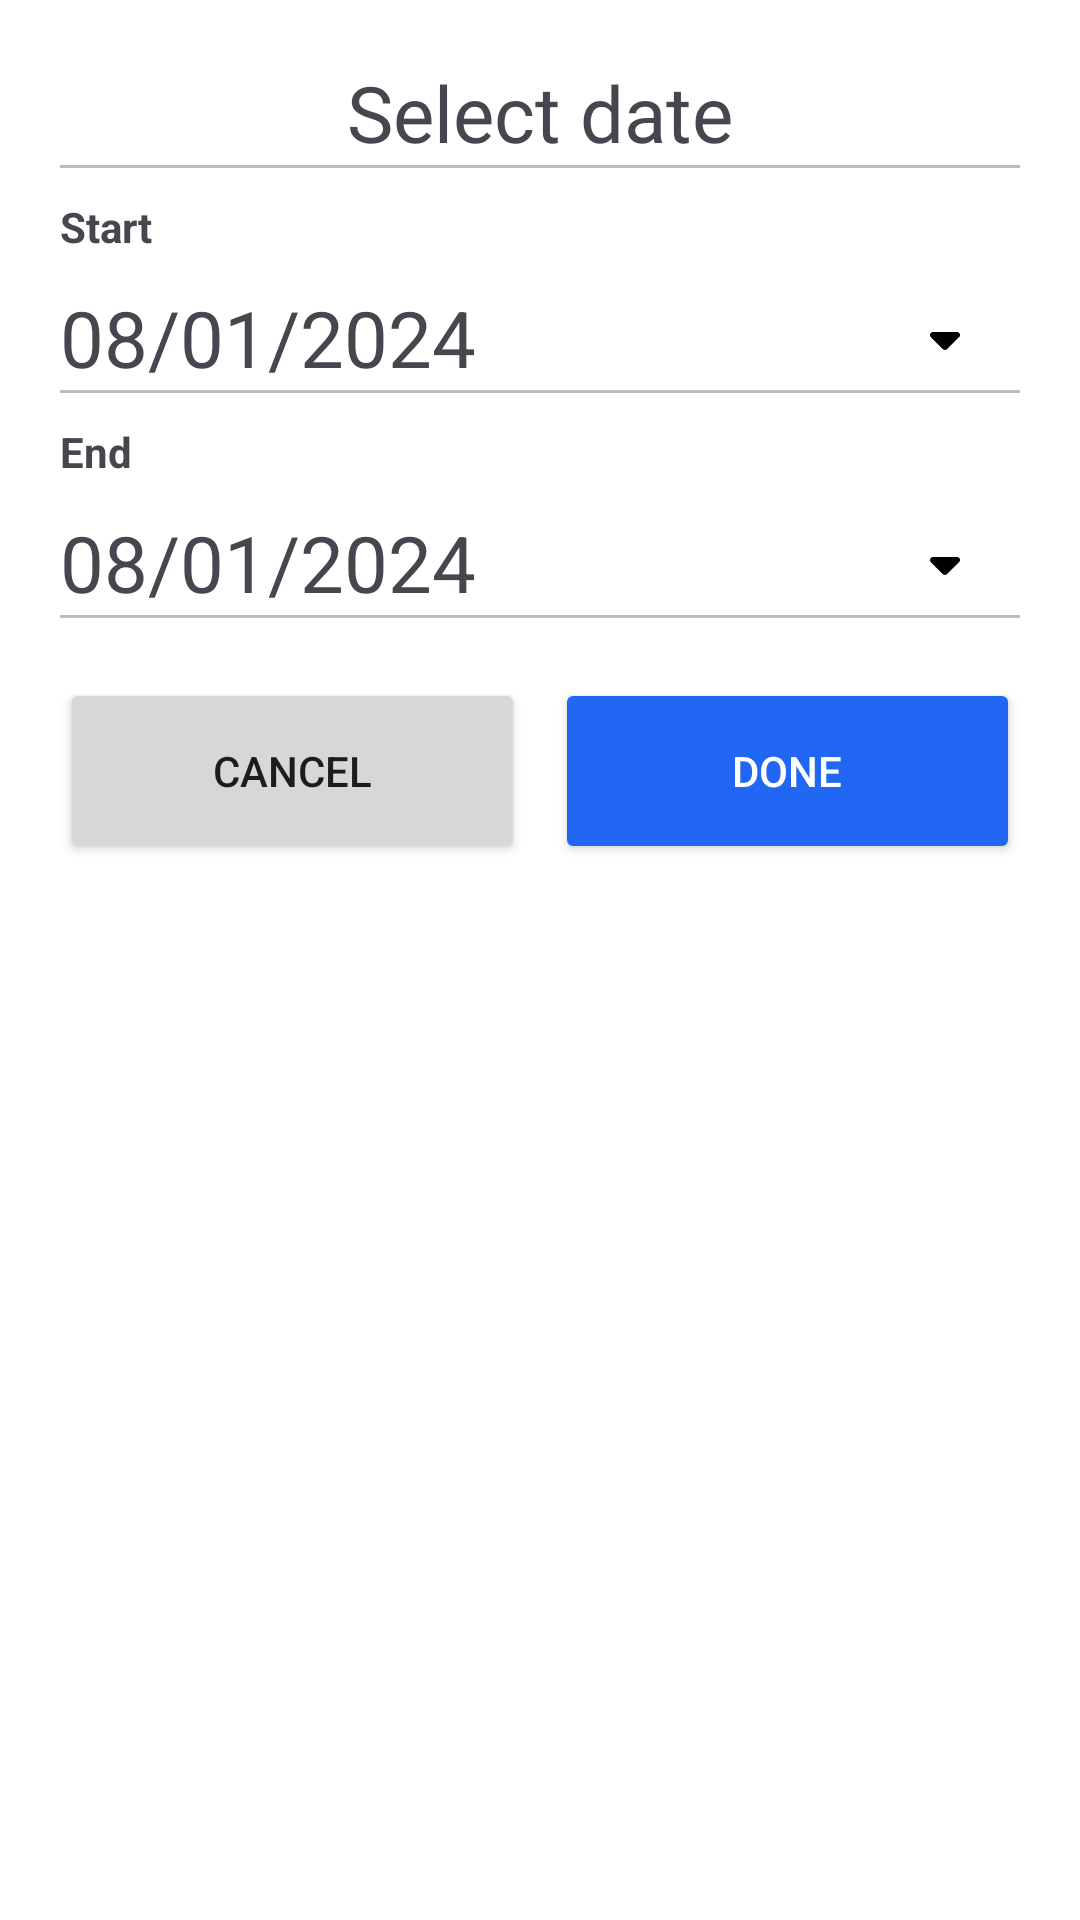

Screen size 1080w x 1920h. Icon name, then its center in pixels as point (x, y):
caret down: point (945, 341), point (945, 566)
